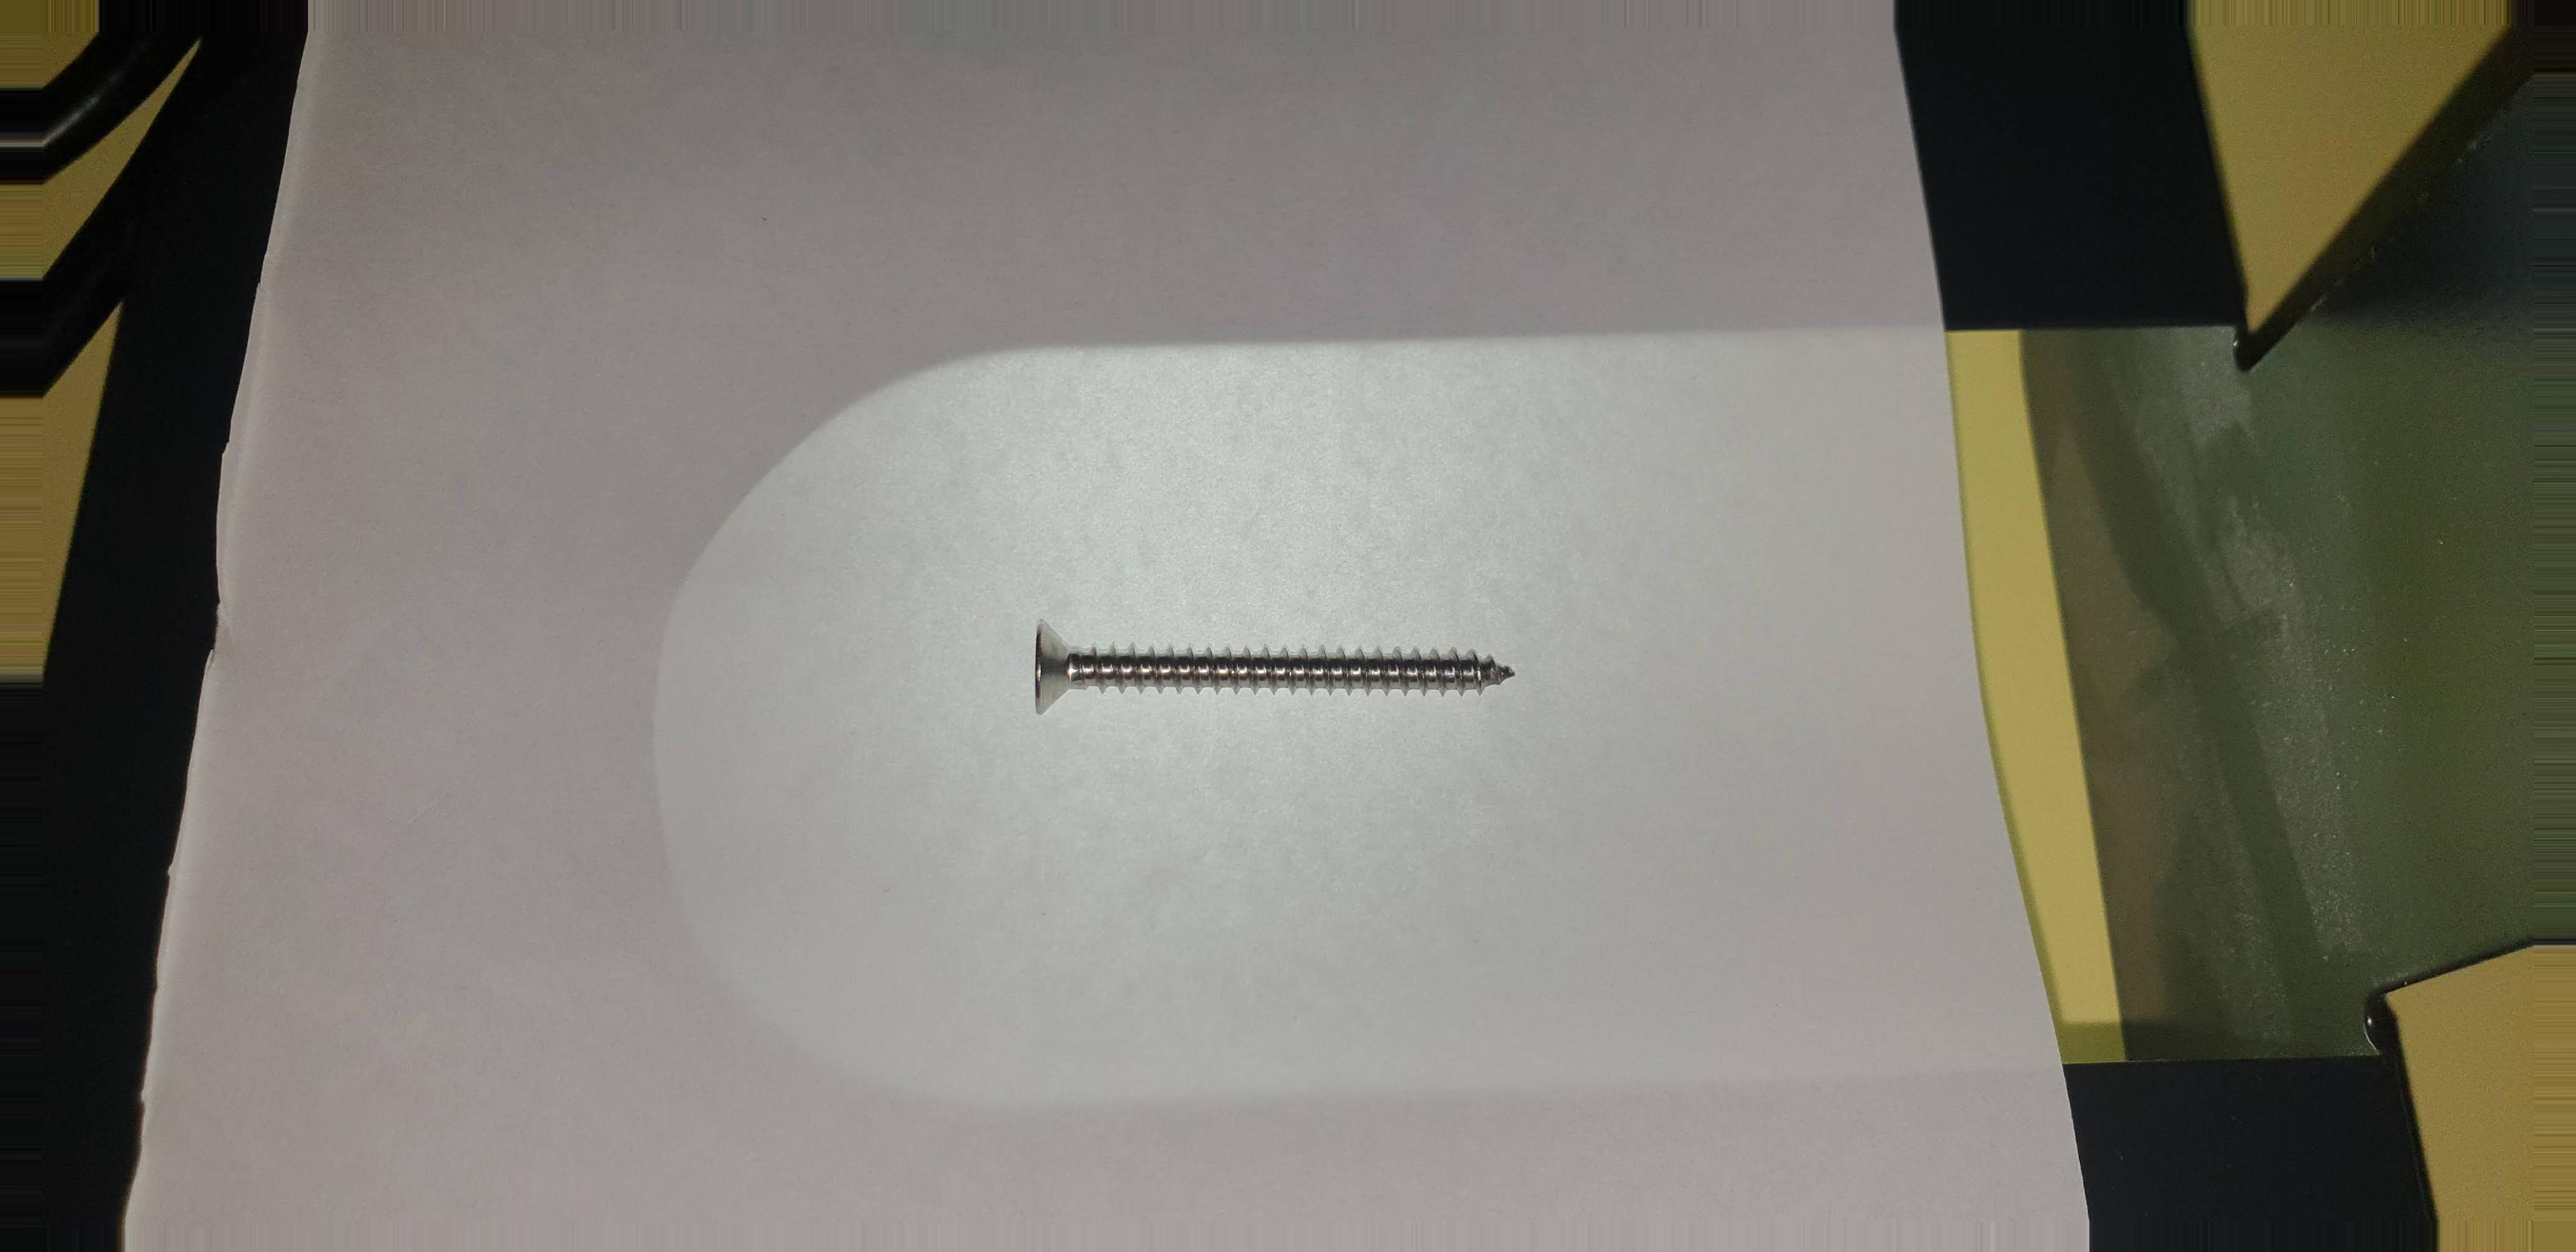fastener: (1004, 575, 1559, 751)
